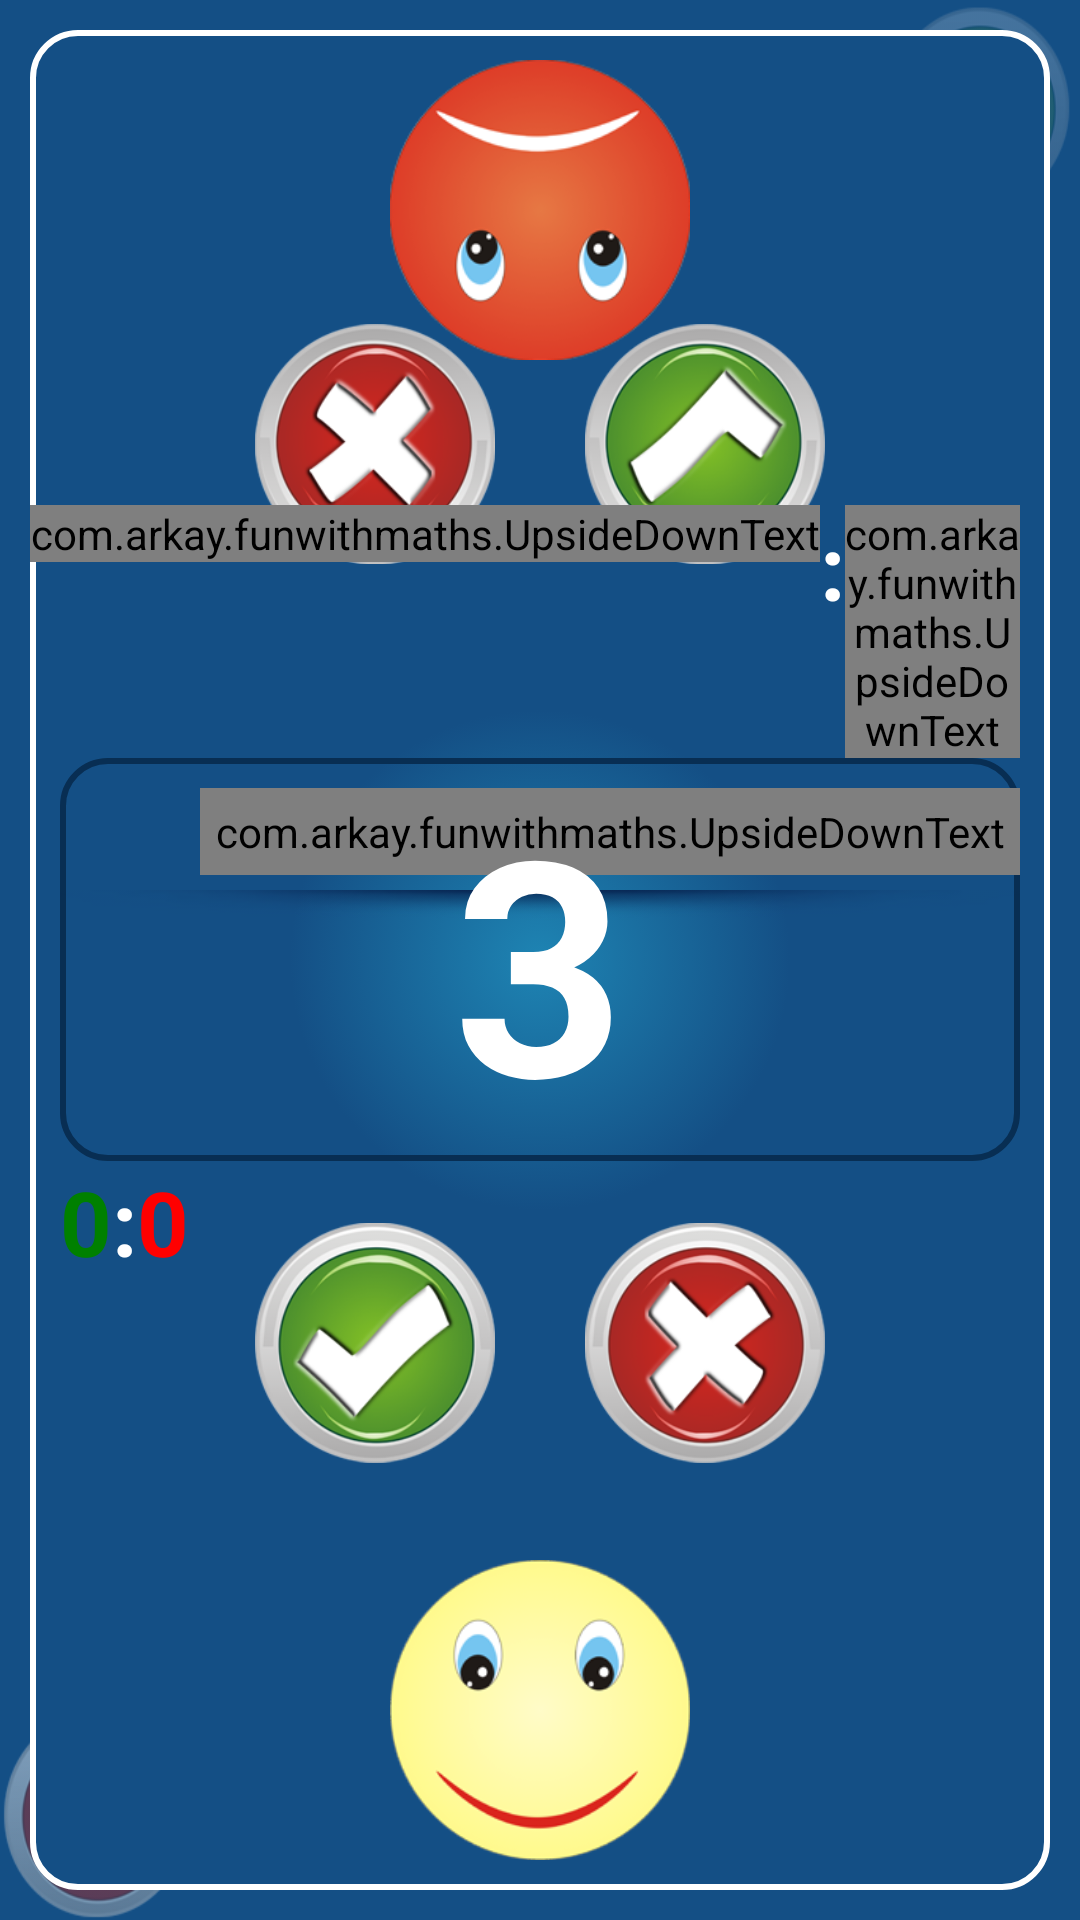

Where icons sit on this 1080w x 1920h app screen, as (left=x1, top=y1, right=x2, bottom=y2):
sad top: (left=390, top=60, right=690, bottom=360)
smile bottom: (left=390, top=1560, right=690, bottom=1860)
